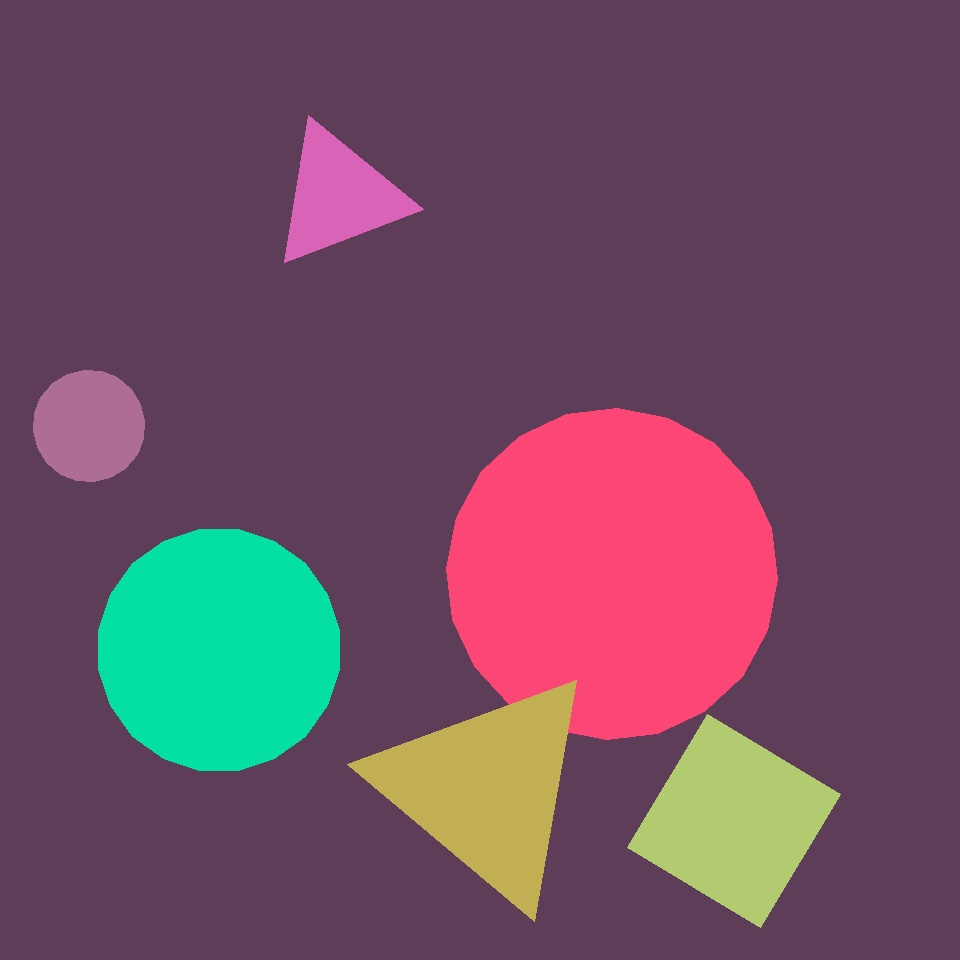circle: (372, 668, 600, 910), (428, 170, 636, 398), (270, 122, 408, 270)
square: (627, 714, 840, 928)
triangle: (446, 408, 777, 740), (98, 530, 340, 770), (285, 516, 468, 698), (34, 370, 144, 482)
